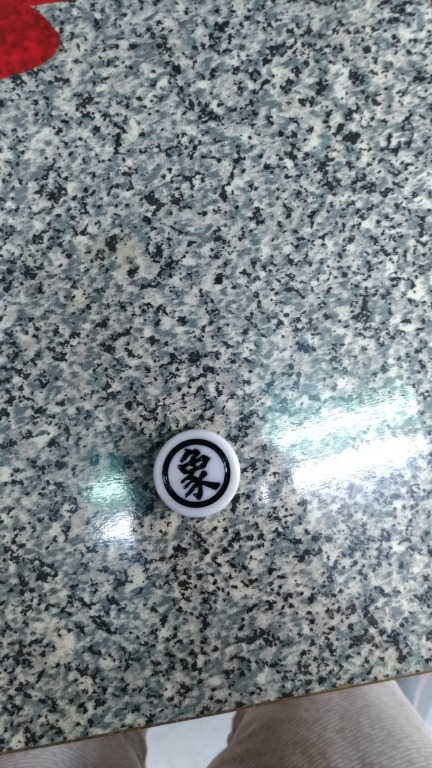b-elephant: (124, 419, 280, 536)
